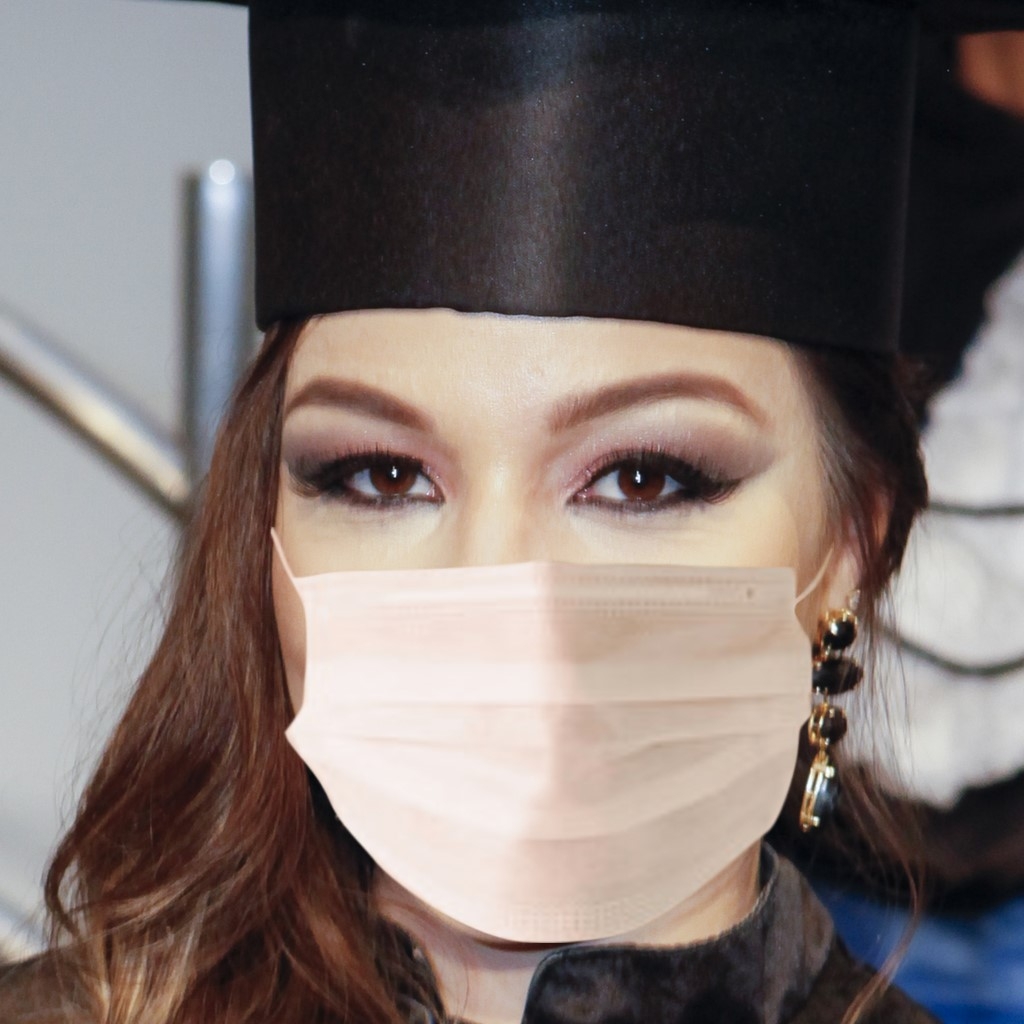con_mascara: (258, 298, 894, 929)
